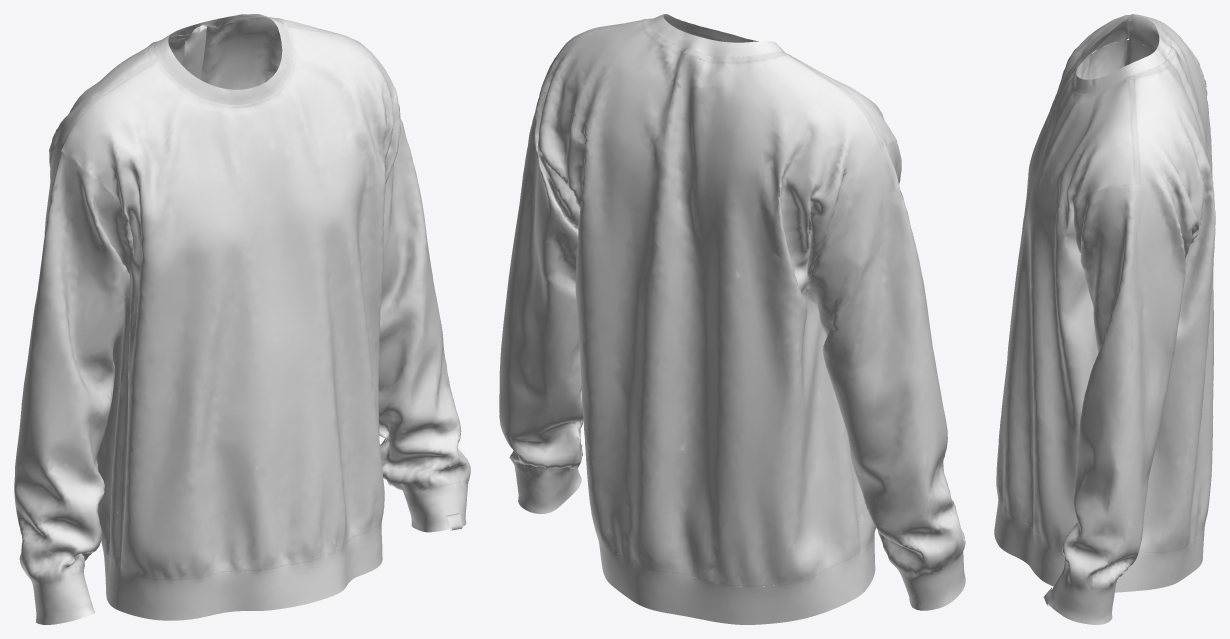
The model's file is Sweatshirt Melange RISCA.gltf.
3 views of the same model, side by side, from view 1: azimuth 30°, elevation 25°; view 2: azimuth 150°, elevation 25°; view 3: azimuth 270°, elevation 25° (orthographic). The views are drawn at different scales.
Parts seen in each view (by area): view 1: Pattern2D_316288, Pattern2D_316281, Pattern2D_316289, Pattern2D_316287, Pattern2D_316292, Pattern2D_9197580, Pattern2D_316286, Pattern2D_316285, Pattern2D_8862076; view 2: Pattern2D_316292, Pattern2D_316281, Pattern2D_316289, Pattern2D_316290, Pattern2D_9197580, Pattern2D_316288, Pattern2D_316285, Pattern2D_316286; view 3: Pattern2D_316288, Pattern2D_316289, Pattern2D_316292, Pattern2D_316290, Pattern2D_316287, Pattern2D_316285, Pattern2D_9197580, Pattern2D_316281.
Boxes of the visible parts, x1,y1,x2,y2 form: Pattern2D_316288: [61, 25, 396, 580]; Pattern2D_316281: [14, 147, 134, 583]; Pattern2D_316289: [378, 95, 470, 491]; Pattern2D_316287: [116, 523, 382, 620]; Pattern2D_316292: [49, 16, 347, 567]; Pattern2D_9197580: [154, 14, 292, 105]; Pattern2D_316286: [31, 570, 95, 624]; Pattern2D_316285: [402, 481, 468, 532]; Pattern2D_8862076: [182, 26, 207, 79]; Pattern2D_316292: [539, 18, 882, 586]; Pattern2D_316281: [806, 141, 965, 576]; Pattern2D_316289: [499, 68, 583, 476]; Pattern2D_316290: [598, 540, 864, 624]; Pattern2D_9197580: [649, 14, 784, 57]; Pattern2D_316288: [549, 21, 897, 551]; Pattern2D_316285: [514, 465, 581, 513]; Pattern2D_316286: [898, 551, 965, 610]; Pattern2D_316288: [996, 15, 1137, 551]; Pattern2D_316289: [1062, 184, 1199, 589]; Pattern2D_316292: [1130, 14, 1215, 552]; Pattern2D_316290: [1115, 525, 1204, 592]; Pattern2D_316287: [994, 498, 1064, 586]; Pattern2D_316285: [1048, 567, 1116, 624]; Pattern2D_9197580: [1073, 16, 1171, 93]; Pattern2D_316281: [1082, 40, 1155, 184].
Size of the model in its own units: 0.6327 by 0.7528 by 0.2958.
12 materials, 12 textured.
